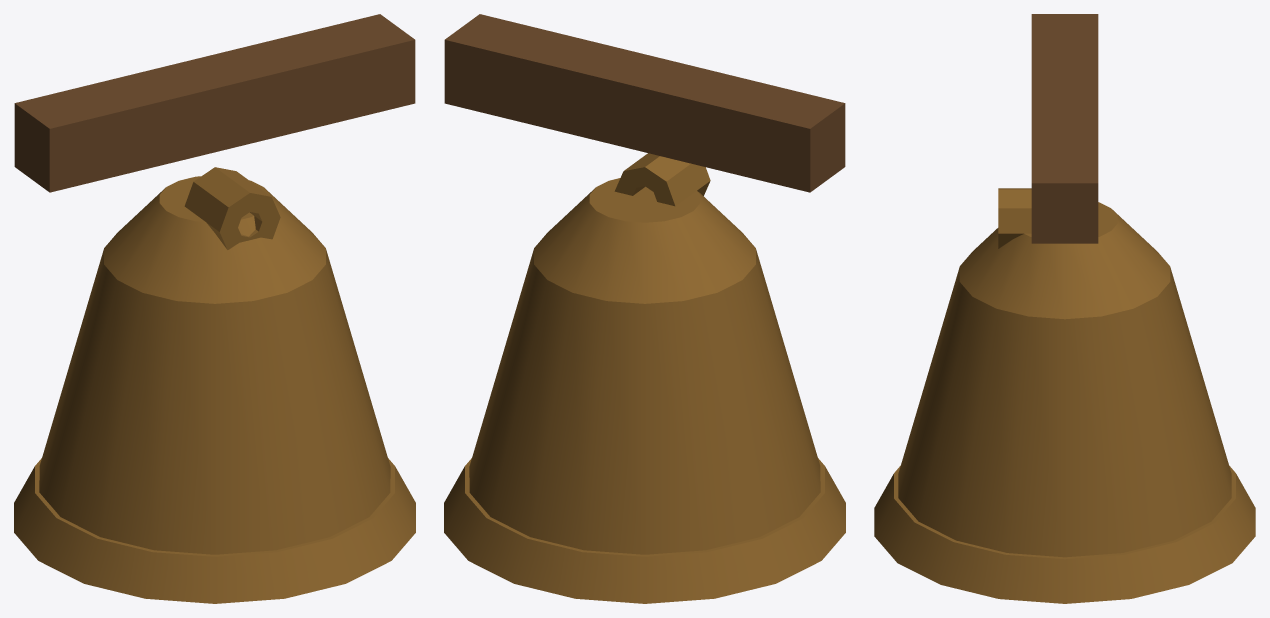
File: mv_bell.glb
The picture shows the model from 3 angles, left to right: view 1: azimuth 30°, elevation 25°; view 2: azimuth 150°, elevation 25°; view 3: azimuth 270°, elevation 25°; orthographic projection. The views are drawn at different scales.
Visible parts, largest first — view 1: mv_bell; view 2: mv_bell; view 3: mv_bell.
Part boxes in pixels (x1,y1,x2,y2): mv_bell: (14,14,415,603); mv_bell: (444,14,845,603); mv_bell: (874,14,1255,603).
Size of the model in its own units: 1.19 by 1.45 by 1.13.
